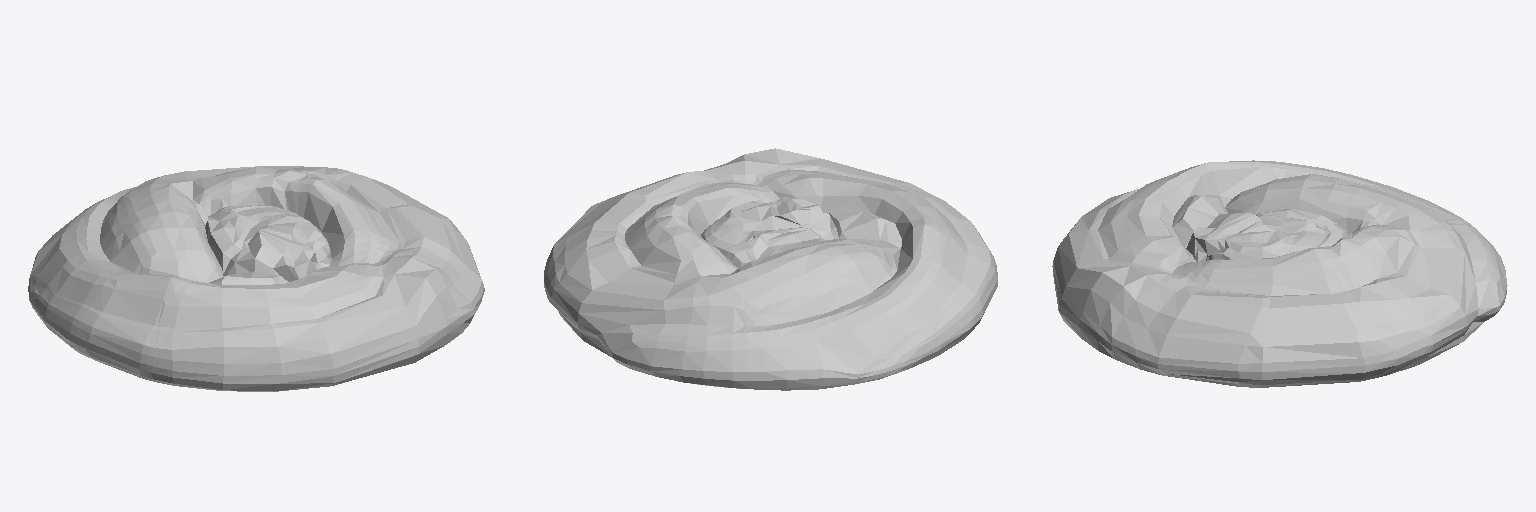
The model's file is cheesedanish_02.obj.
3 views of the same model, side by side, from view 1: azimuth 30°, elevation 25°; view 2: azimuth 150°, elevation 25°; view 3: azimuth 270°, elevation 25° (orthographic).
Parts seen in each view (by area): view 1: cheesedanish_02_Plane.026; view 2: cheesedanish_02_Plane.026; view 3: cheesedanish_02_Plane.026.
Boxes of the visible parts, box(x1,y1,x2,y2) form: cheesedanish_02_Plane.026: box(28, 166, 484, 391); cheesedanish_02_Plane.026: box(544, 148, 997, 390); cheesedanish_02_Plane.026: box(1052, 160, 1507, 387).
Bounding box in the file's own units: 0.1487 × 0.0341 × 0.1496.